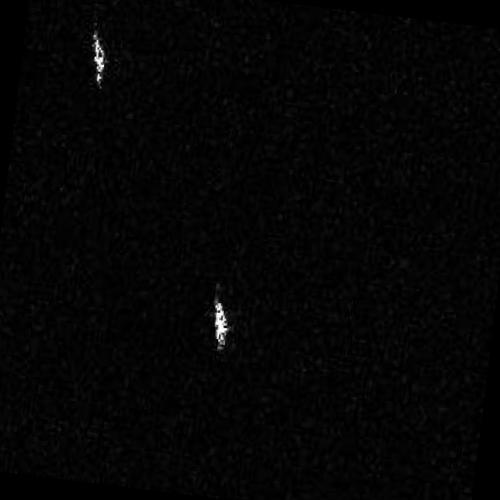ship: (88, 26, 108, 86), (212, 297, 230, 352)
